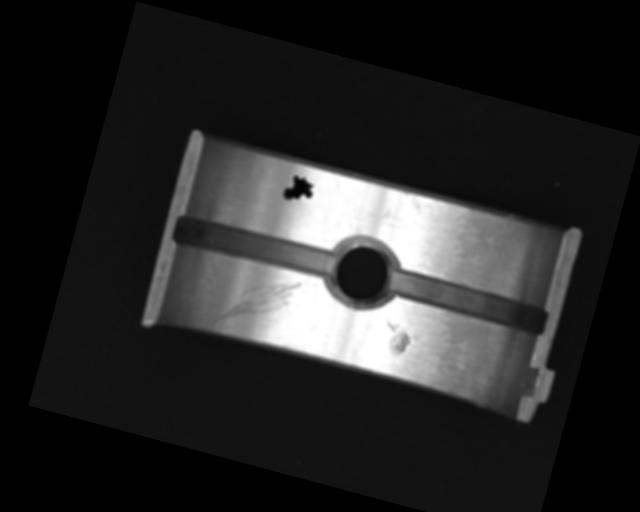blot: (281, 172, 317, 207)
bruise: (380, 319, 415, 356)
gap: (171, 211, 341, 285), (386, 267, 550, 336)
hole: (320, 230, 403, 314)
nick: (212, 263, 301, 345)
